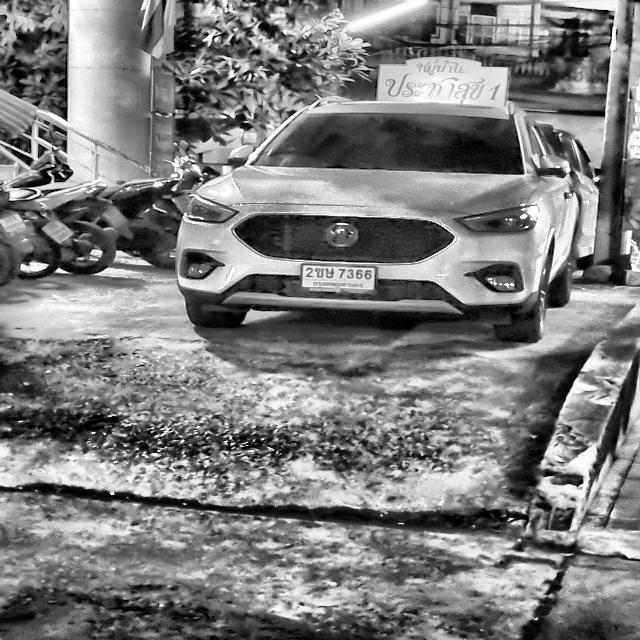license-plate: (299, 264, 379, 295)
